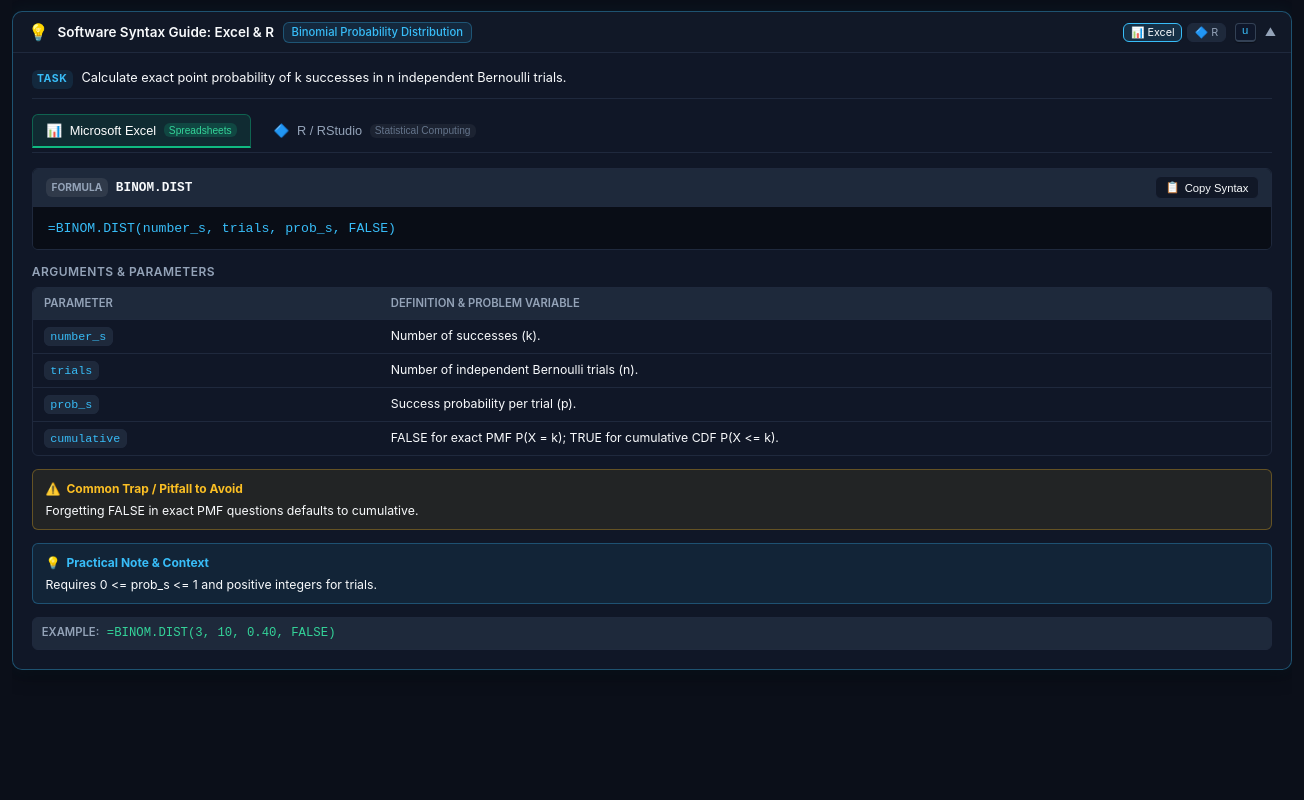
Scenario: SoftwareToolDrawer Component › copies syntax to clipboard on copy button click with visual feedback
The width and height of the screenshot is (1304, 800).
Click the button "📋 Copy Syntax" at (1207, 188), box left=1155, top=176, right=1258, bottom=199
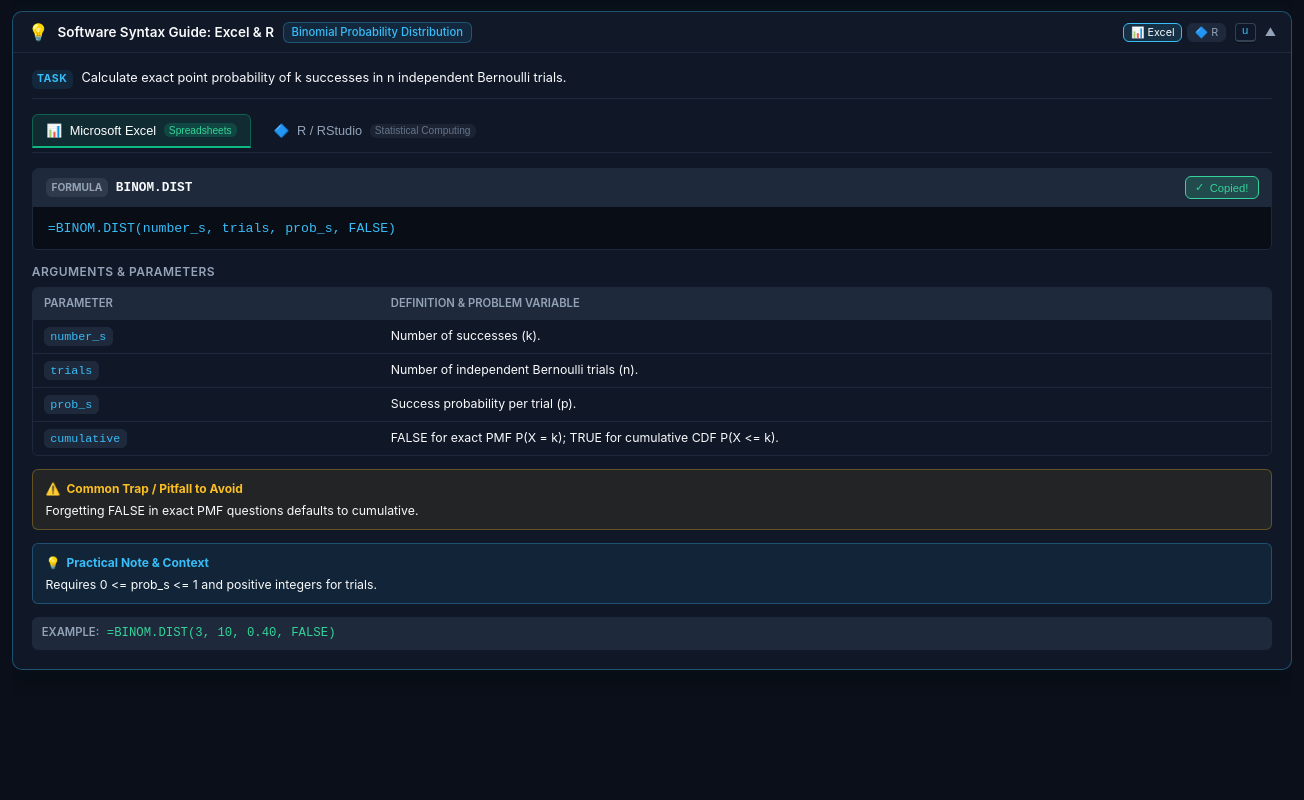
Check: the text "Copied!" is shown, box left=1210, top=182, right=1248, bottom=194
